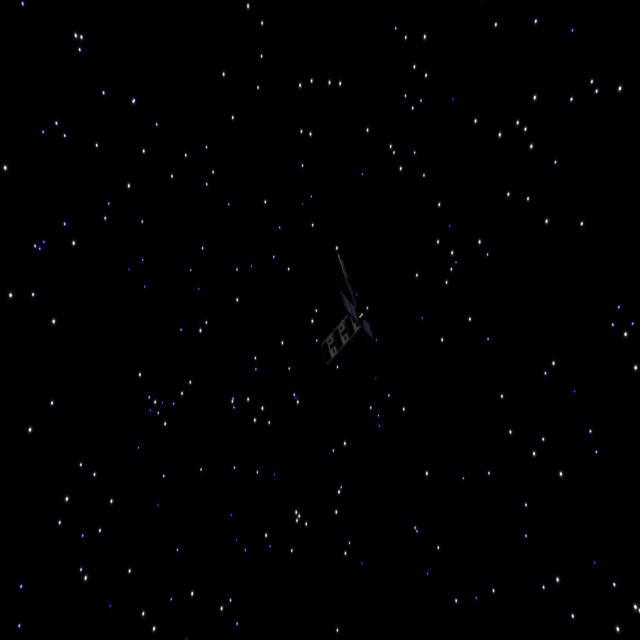medium_debris: (324, 257, 378, 367)
